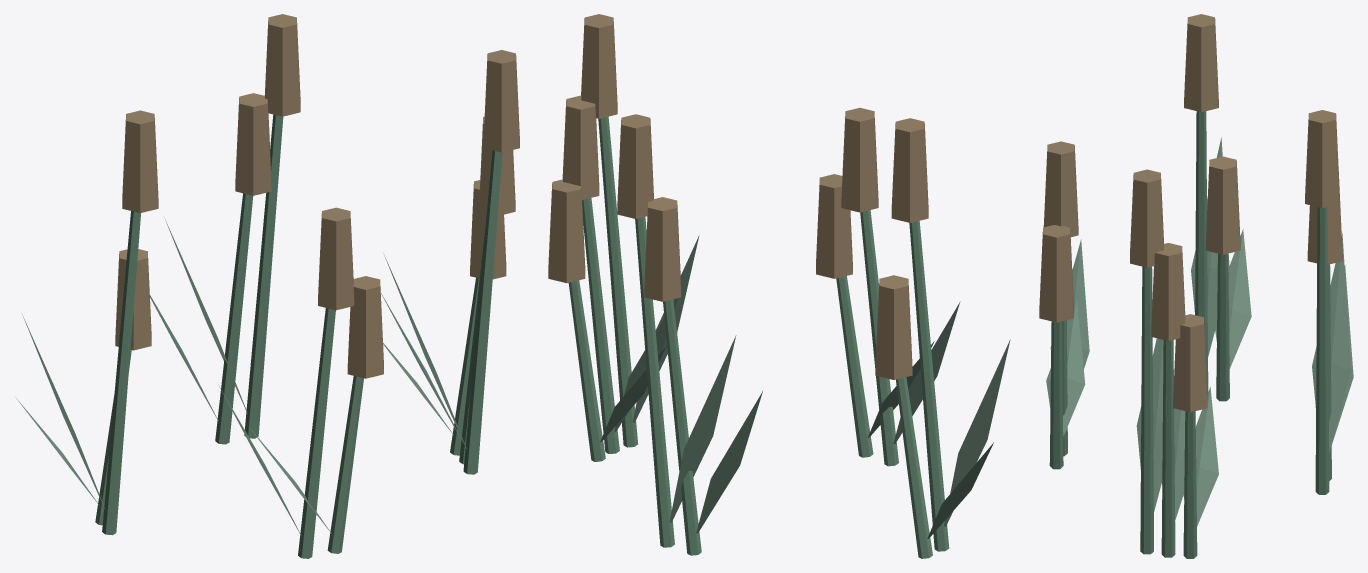
Rendered from map-exclusive-v3__lake_07.glb.
The picture shows the model from 3 angles, left to right: view 1: azimuth 30°, elevation 25°; view 2: azimuth 150°, elevation 25°; view 3: azimuth 270°, elevation 25°; orthographic projection. The views are drawn at different scales.
Parts seen in each view (by area): view 1: lake_07; view 2: lake_07; view 3: lake_07.
Part boxes in pixels (x1,y1,x2,y2): lake_07: (16,14,519,558); lake_07: (548,14,1010,558); lake_07: (1039,14,1353,558).
Size of the model in its own units: 1.81 by 1.5 by 1.1.
